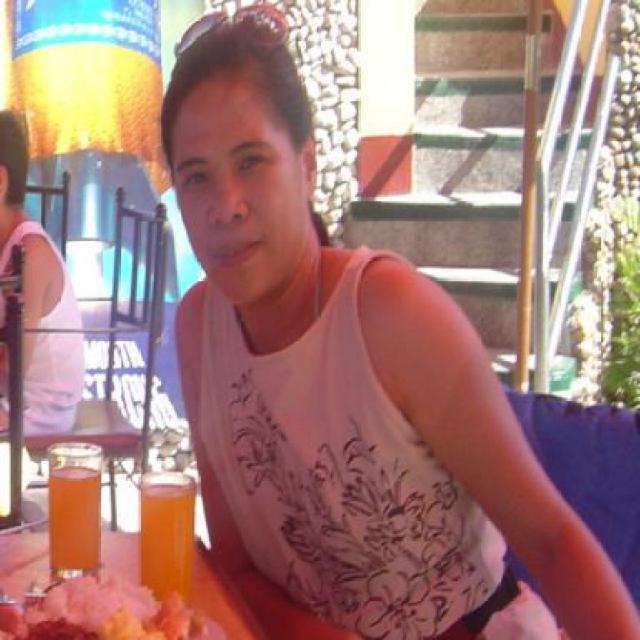Juice: (123, 447, 191, 605), (51, 464, 100, 570)
